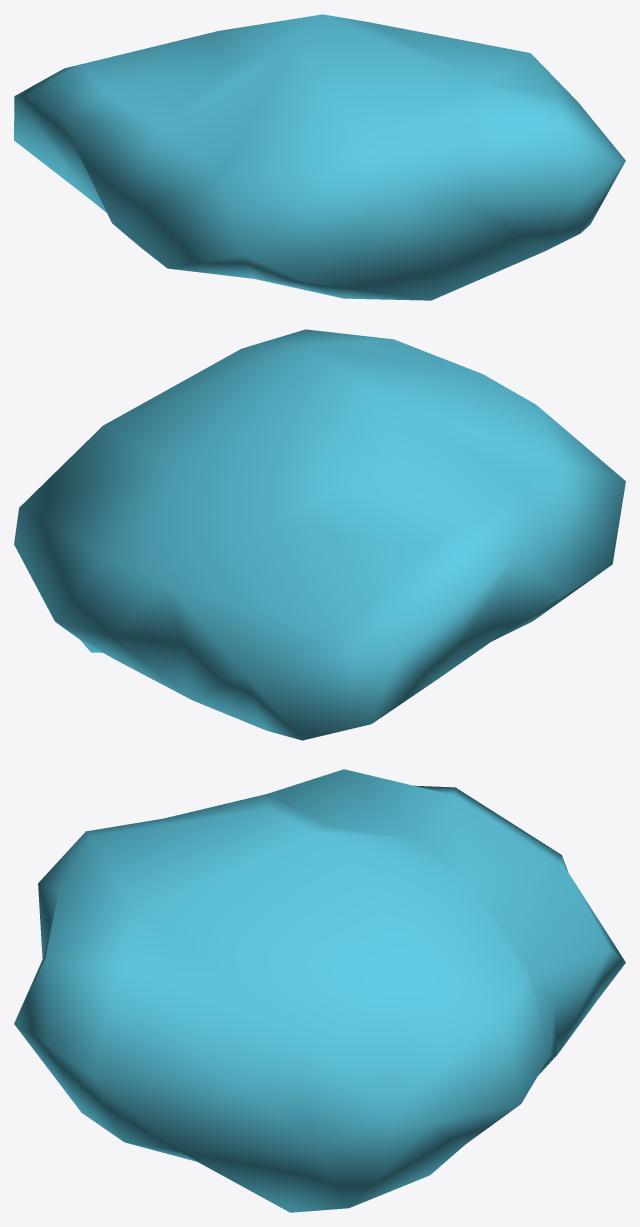
Rendered from rock_10.FBX.
3 renders of one model, top to bottom at view 1: azimuth 30°, elevation 25°; view 2: azimuth 150°, elevation 25°; view 3: azimuth 270°, elevation 25°, orthographic. The views are drawn at different scales.
Parts seen in each view (by area): view 1: rock_10; view 2: rock_10; view 3: rock_10.
Part boxes in pixels (x1,y1,x2,y2): rock_10: (14,14,625,300); rock_10: (14,329,625,740); rock_10: (14,769,625,1212).
Size of the model in its own units: 28.53 by 14.07 by 29.45.
